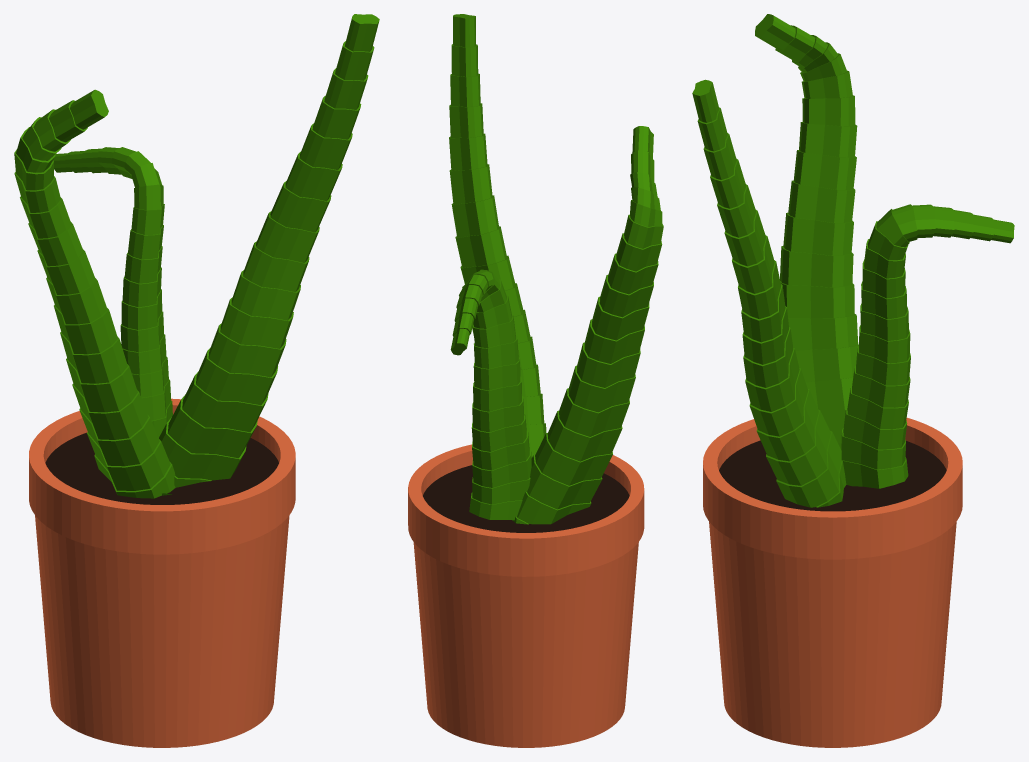
Rendered from flowerpot.glb.
The picture shows the model from 3 angles, left to right: view 1: azimuth 30°, elevation 25°; view 2: azimuth 150°, elevation 25°; view 3: azimuth 270°, elevation 25°; orthographic projection. The views are drawn at different scales.
Visible parts, largest first — view 1: Cylinder; view 2: Cylinder; view 3: Cylinder.
Boxes of the visible parts, left/top/right/bottom form: Cylinder: left=14, top=14, right=379, bottom=747; Cylinder: left=408, top=14, right=663, bottom=747; Cylinder: left=692, top=14, right=1014, bottom=747.
Size of the model in its own units: 2.47 by 5.61 by 2.4.
